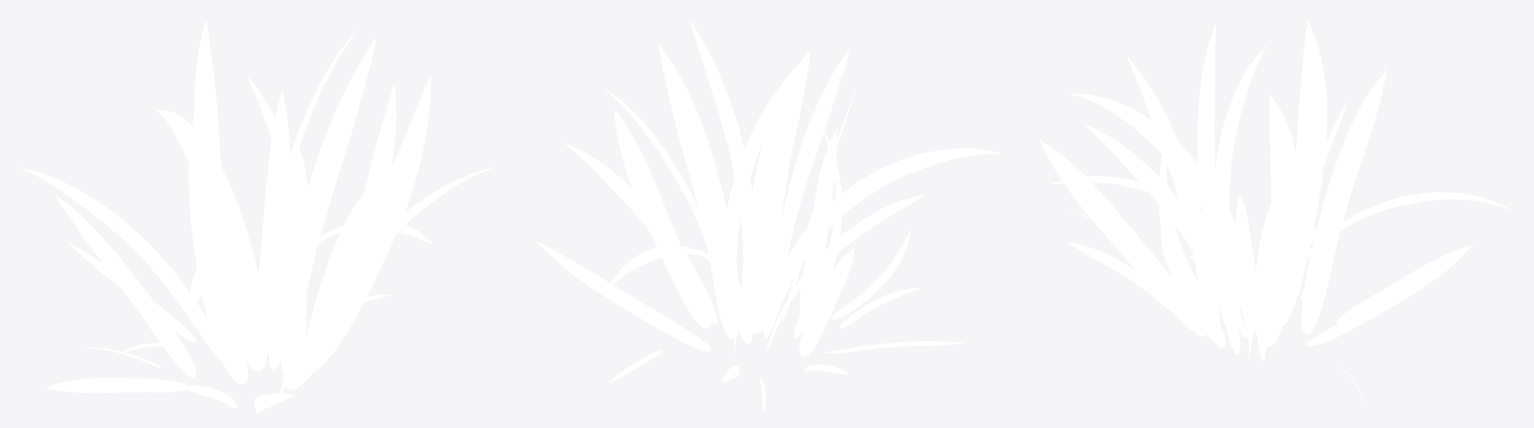
3 renders of one model, left to right at view 1: azimuth 30°, elevation 25°; view 2: azimuth 150°, elevation 25°; view 3: azimuth 270°, elevation 25°, orthographic. The views are drawn at different scales.
Visible parts, largest first — view 1: SM_SwampGrass_01_LOD0; view 2: SM_SwampGrass_01_LOD0; view 3: SM_SwampGrass_01_LOD0.
Boxes of the visible parts, box(x1,y1,x2,y2) form: SM_SwampGrass_01_LOD0: box(19, 20, 496, 412); SM_SwampGrass_01_LOD0: box(536, 19, 1001, 412); SM_SwampGrass_01_LOD0: box(1039, 21, 1511, 408).
Size of the model in its own units: 1.06 by 0.8306 by 1.1.
Materials: 1 (1 with a texture image).
